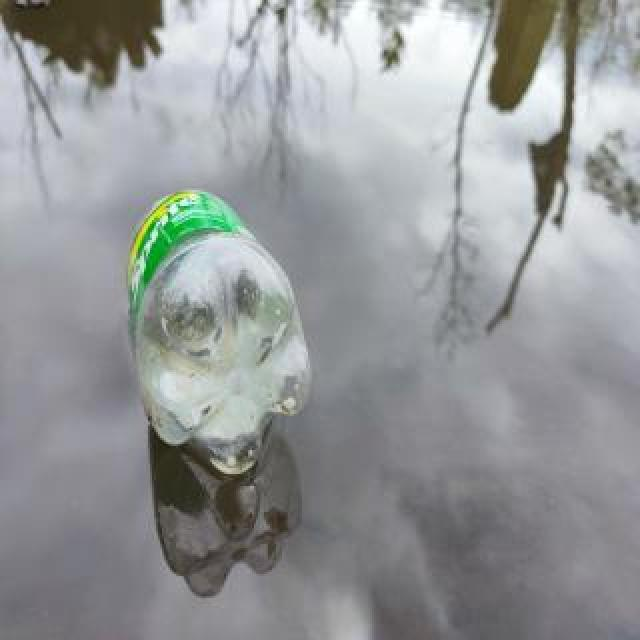bottle: (121, 179, 317, 487)
